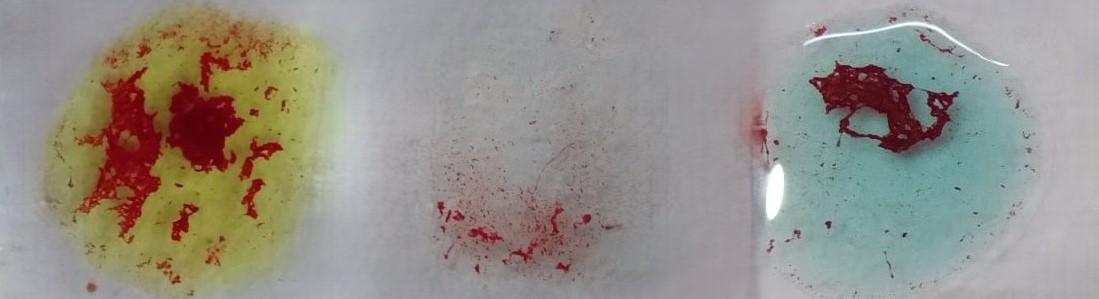A: (774, 24, 1033, 294)
B: (44, 5, 335, 299)
D: (420, 17, 639, 289)
